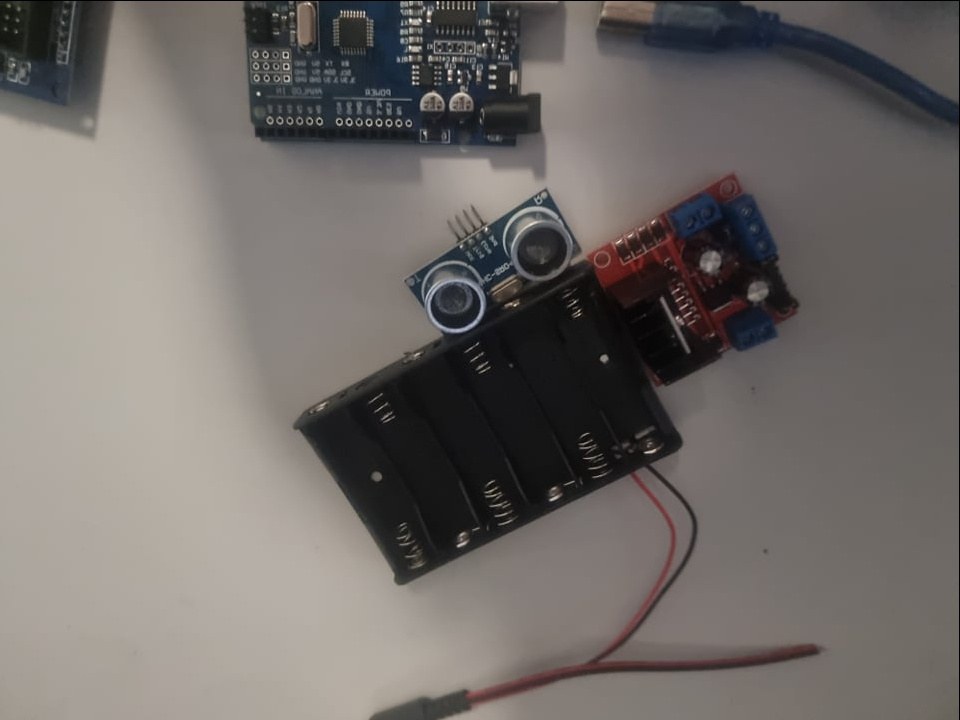BATTERY BOX: (292, 269, 684, 591)
MOTOR: (586, 172, 822, 382)
SENSOR: (399, 184, 576, 335)
UNO R3: (248, 0, 539, 153)
